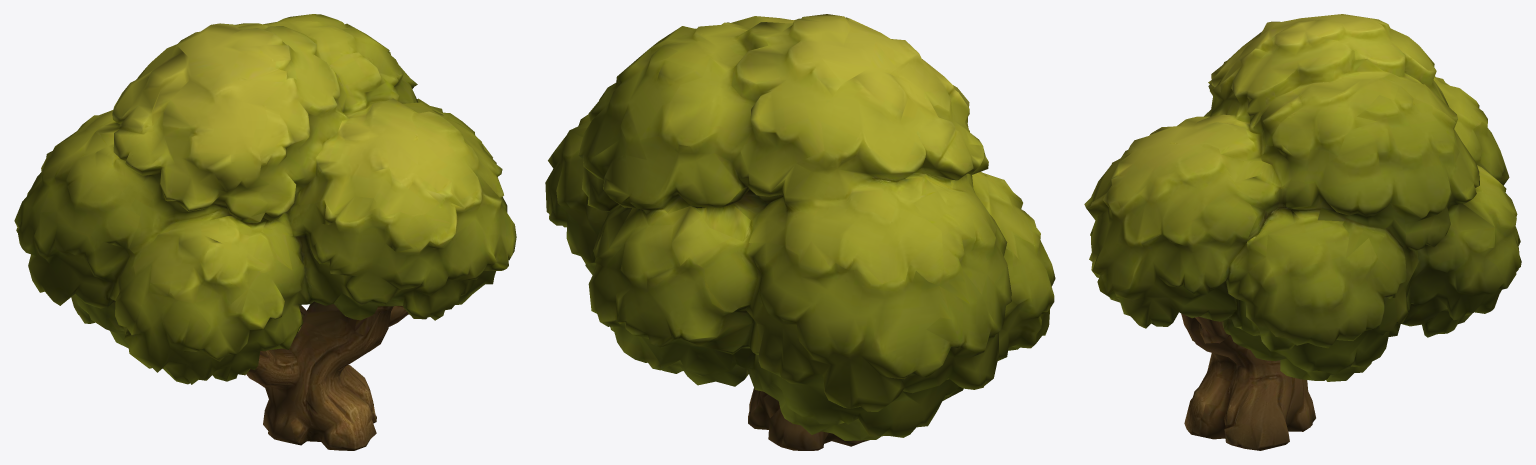
Rendered from cedar-tree.glb.
The picture shows the model from 3 angles, left to right: view 1: azimuth 30°, elevation 25°; view 2: azimuth 150°, elevation 25°; view 3: azimuth 270°, elevation 25°; orthographic projection. The views are drawn at different scales.
Visible parts, largest first — view 1: tripo_node_085e7519-f4ae-4810-b3ea-3d1cdbfd48c8; view 2: tripo_node_085e7519-f4ae-4810-b3ea-3d1cdbfd48c8; view 3: tripo_node_085e7519-f4ae-4810-b3ea-3d1cdbfd48c8.
Boxes of the visible parts, <box> form: tripo_node_085e7519-f4ae-4810-b3ea-3d1cdbfd48c8: <box>14,14,516,450</box>; tripo_node_085e7519-f4ae-4810-b3ea-3d1cdbfd48c8: <box>545,14,1055,450</box>; tripo_node_085e7519-f4ae-4810-b3ea-3d1cdbfd48c8: <box>1084,14,1521,450</box>.
Size of the model in its own units: 0.9799 by 0.8482 by 0.8762.
1 material, 1 textured.
